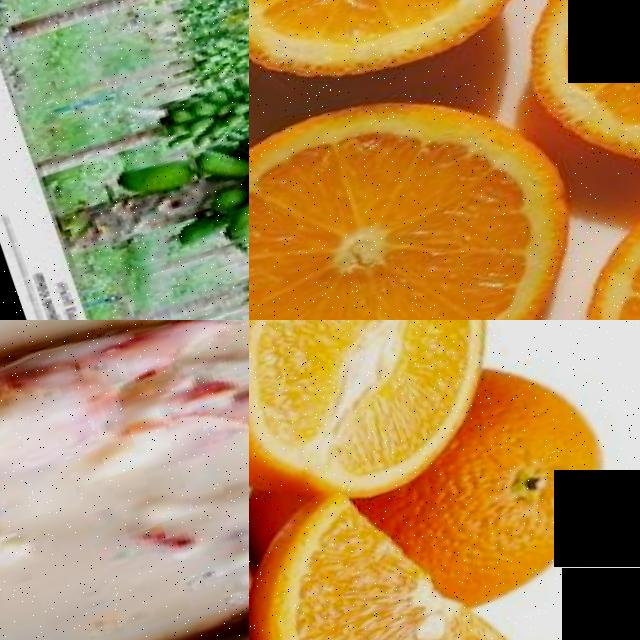orange: (249, 37, 620, 320), (391, 403, 640, 621), (249, 479, 534, 640), (249, 320, 515, 486), (249, 0, 572, 124), (505, 0, 640, 212)
pawpaw: (110, 145, 198, 209), (215, 186, 249, 245)
